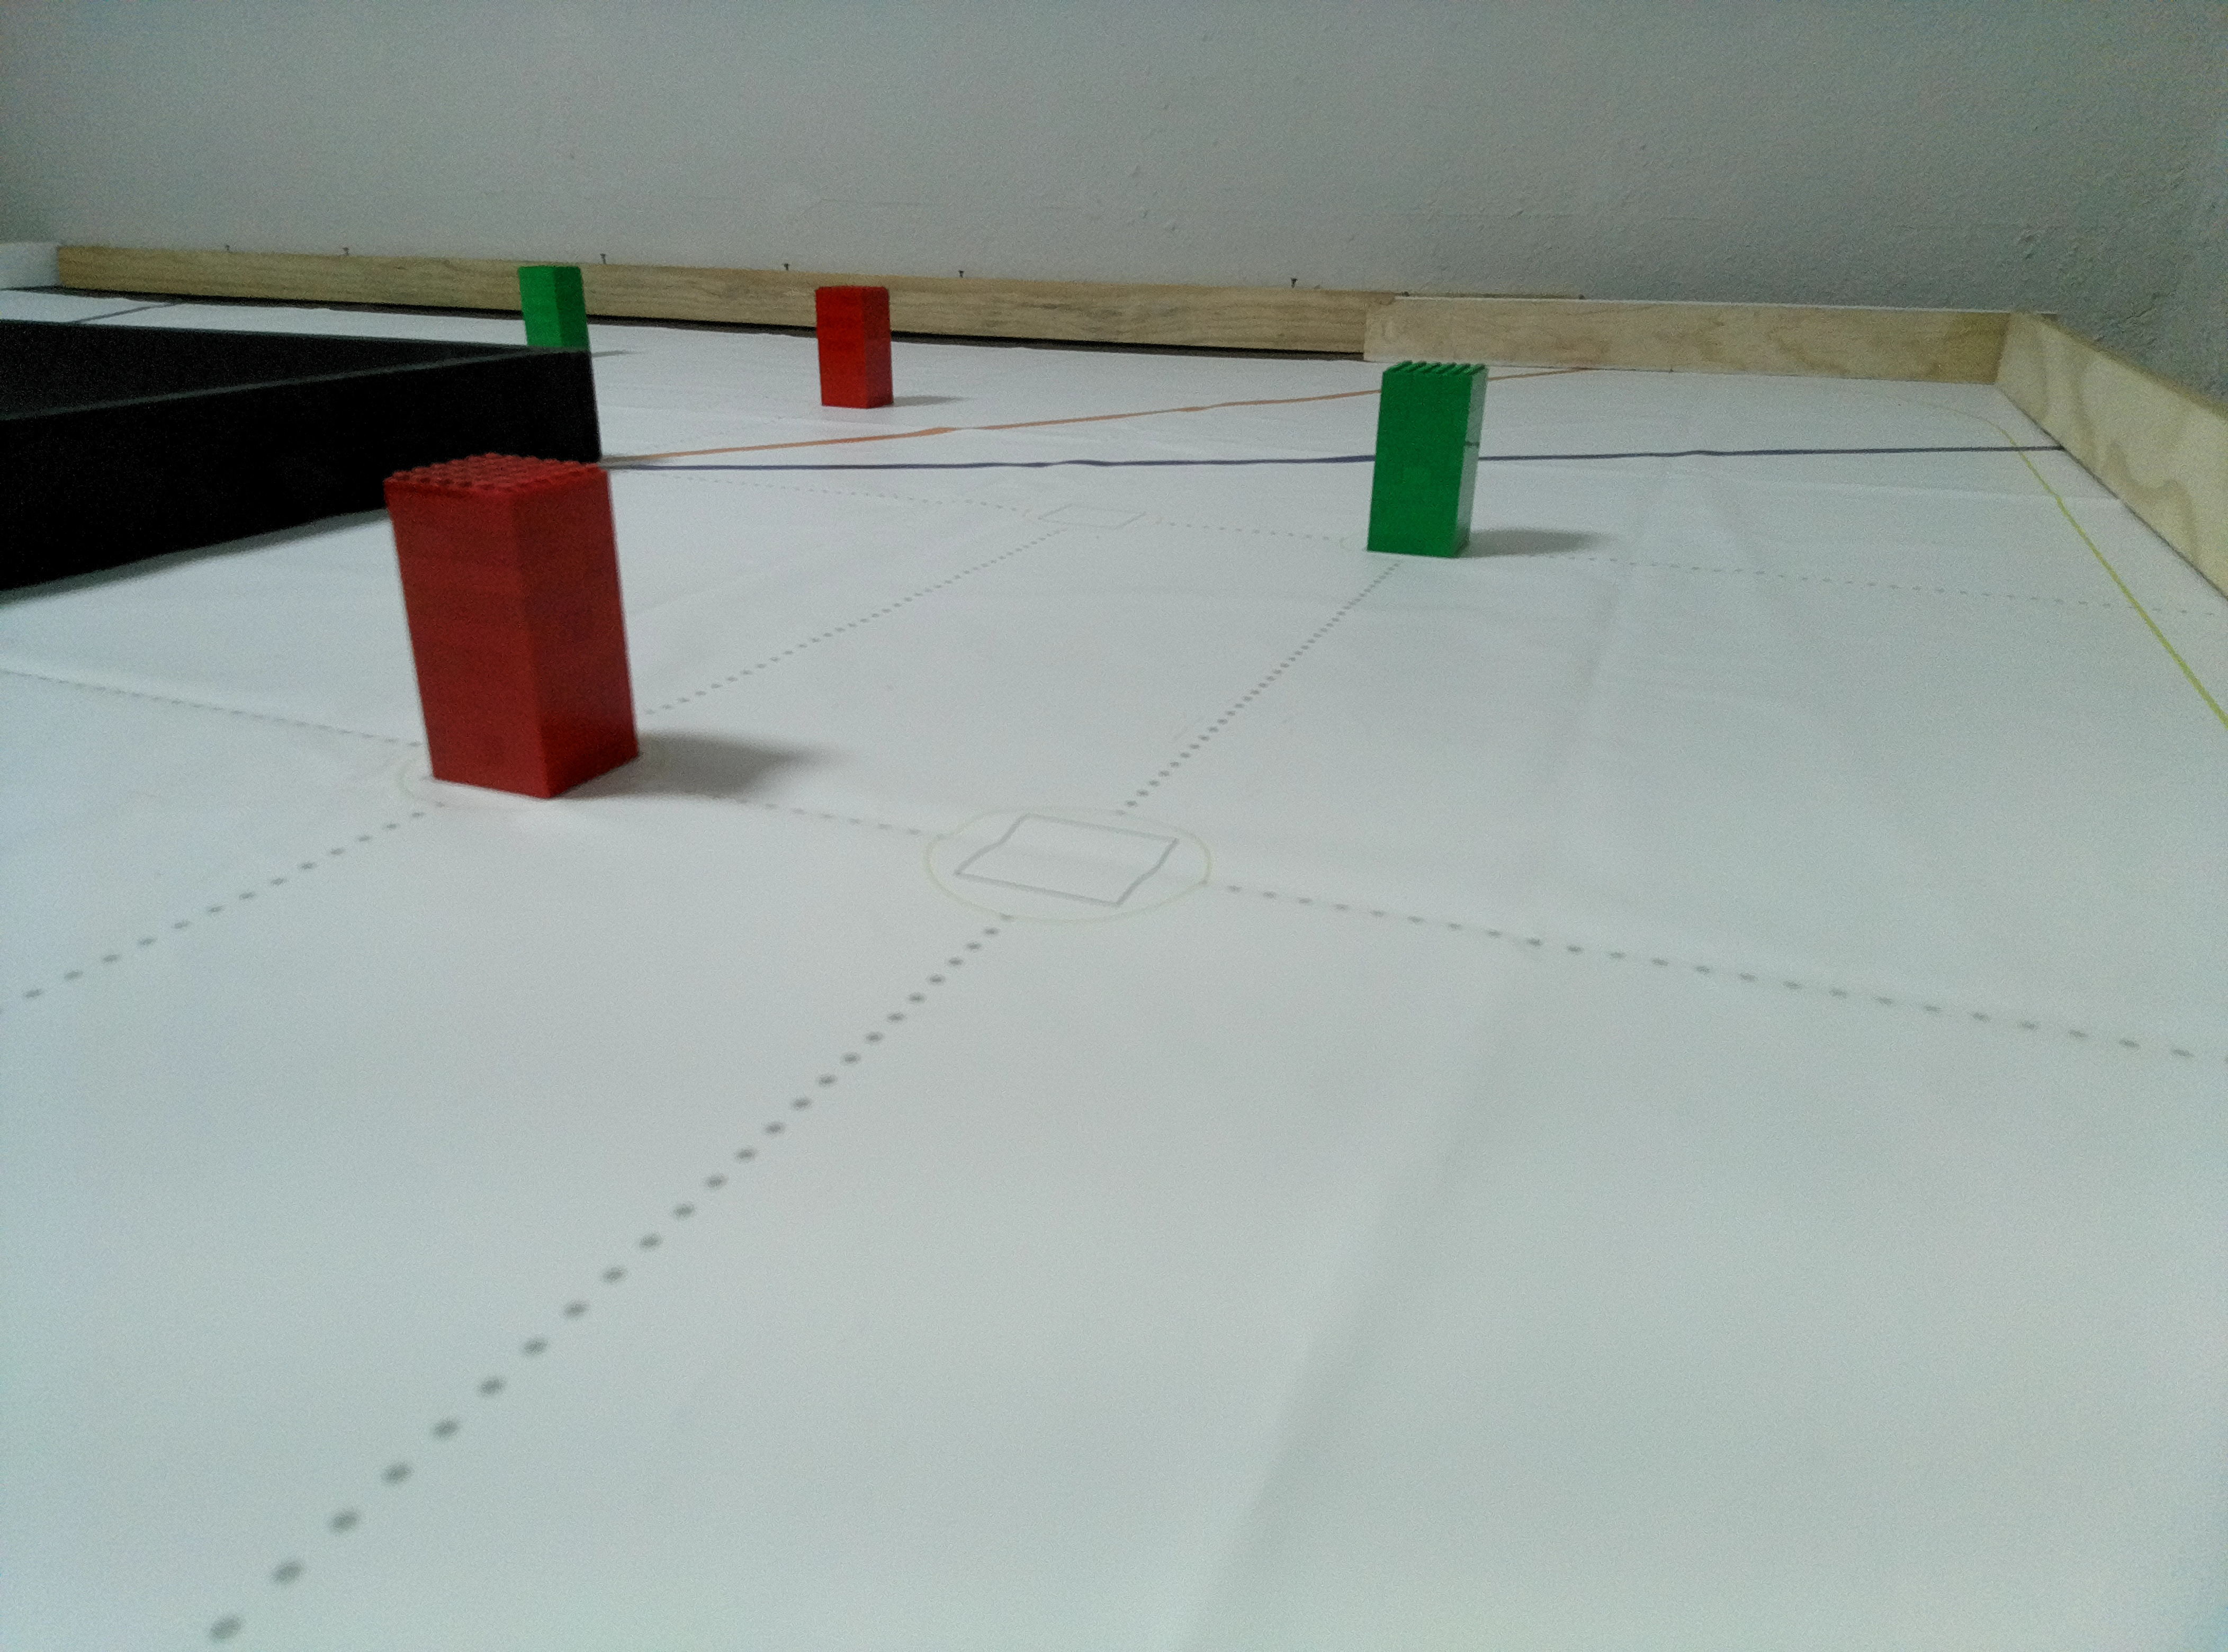greenbox: (1360, 359, 1496, 564), (515, 265, 592, 357)
redbox: (378, 446, 647, 802), (814, 281, 897, 411)
